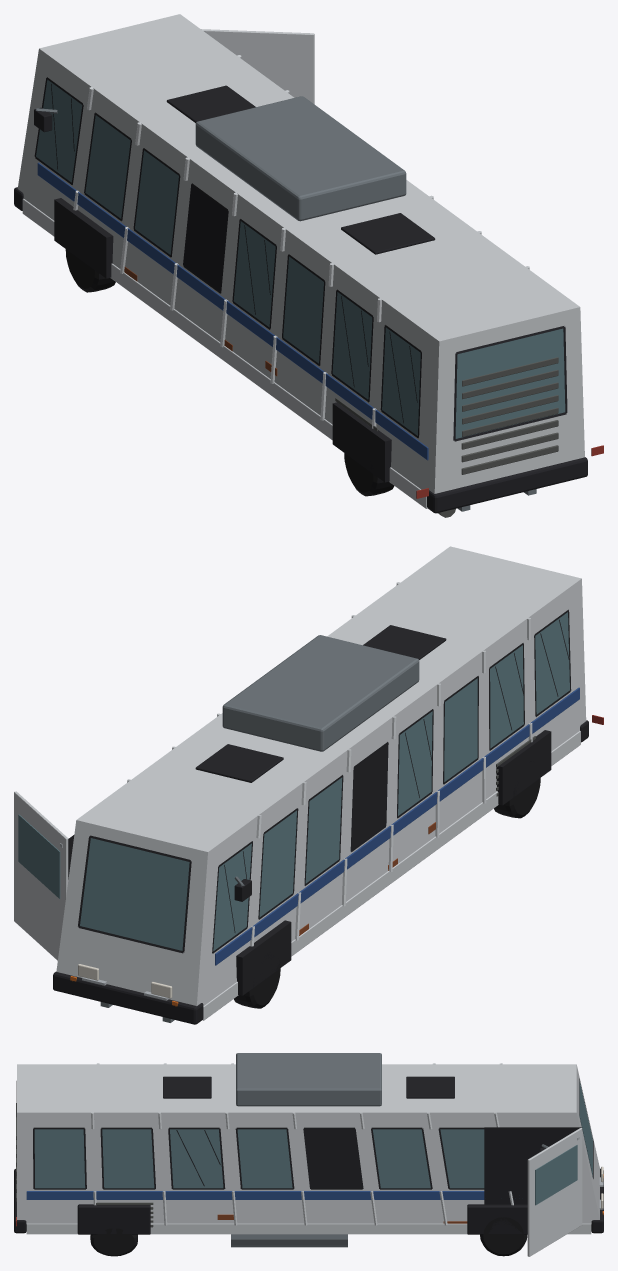
File: bus_city.glb
3 views of the same model, one above another, from view 1: azimuth 30°, elevation 25°; view 2: azimuth 150°, elevation 25°; view 3: azimuth 270°, elevation 25° (orthographic). The views are drawn at different scales.
Parts seen in each view (by area): view 1: bus_city; view 2: bus_city; view 3: bus_city.
Part boxes in pixels (box(x1,y1,x2,y2)): bus_city: box(14, 14, 603, 517); bus_city: box(14, 546, 603, 1024); bus_city: box(14, 1053, 603, 1256).
Size of what is drawn, in the model's own units: 4.39 by 3.6 by 12.12.
2 materials, 2 textured.
